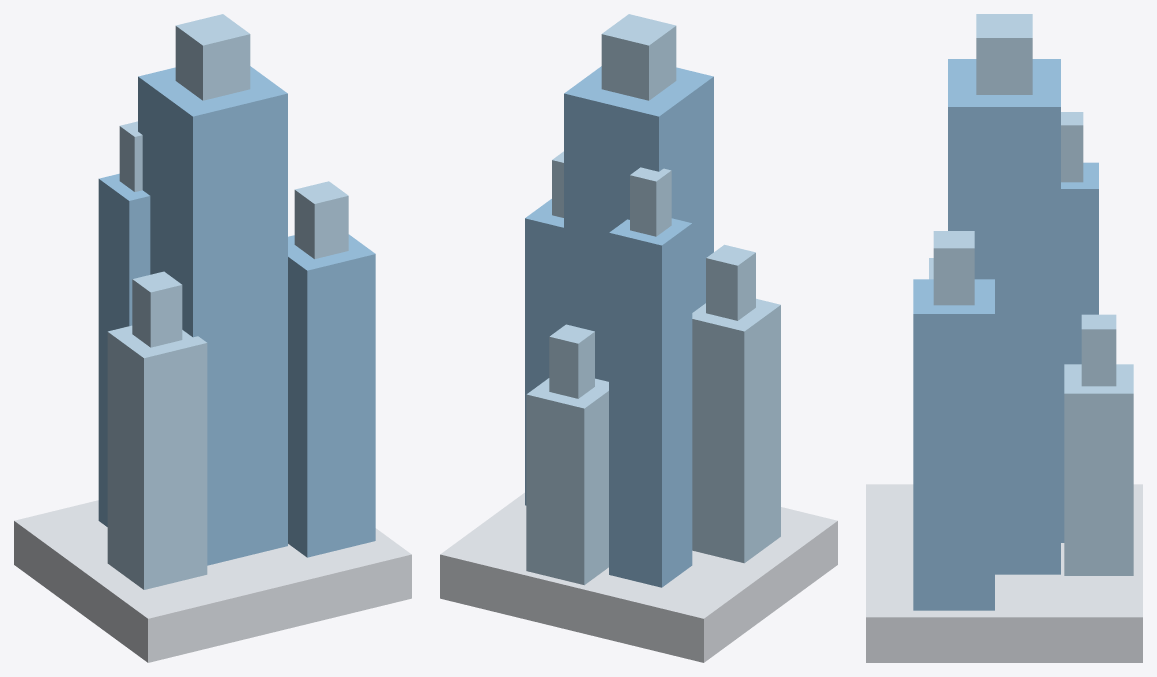
Rendered from IceCrystal.glb.
The picture shows the model from 3 angles, left to right: view 1: azimuth 30°, elevation 25°; view 2: azimuth 150°, elevation 25°; view 3: azimuth 270°, elevation 25°; orthographic projection. The views are drawn at different scales.
Visible parts, largest first — view 1: IceCrystal; view 2: IceCrystal; view 3: IceCrystal.
Boxes of the visible parts, bbox=[...] form: IceCrystal: bbox=[14, 14, 411, 662]; IceCrystal: bbox=[440, 14, 837, 662]; IceCrystal: bbox=[866, 14, 1142, 662].
Size of the model in its own units: 5 by 10 by 4.4.
1 material, 1 textured.
